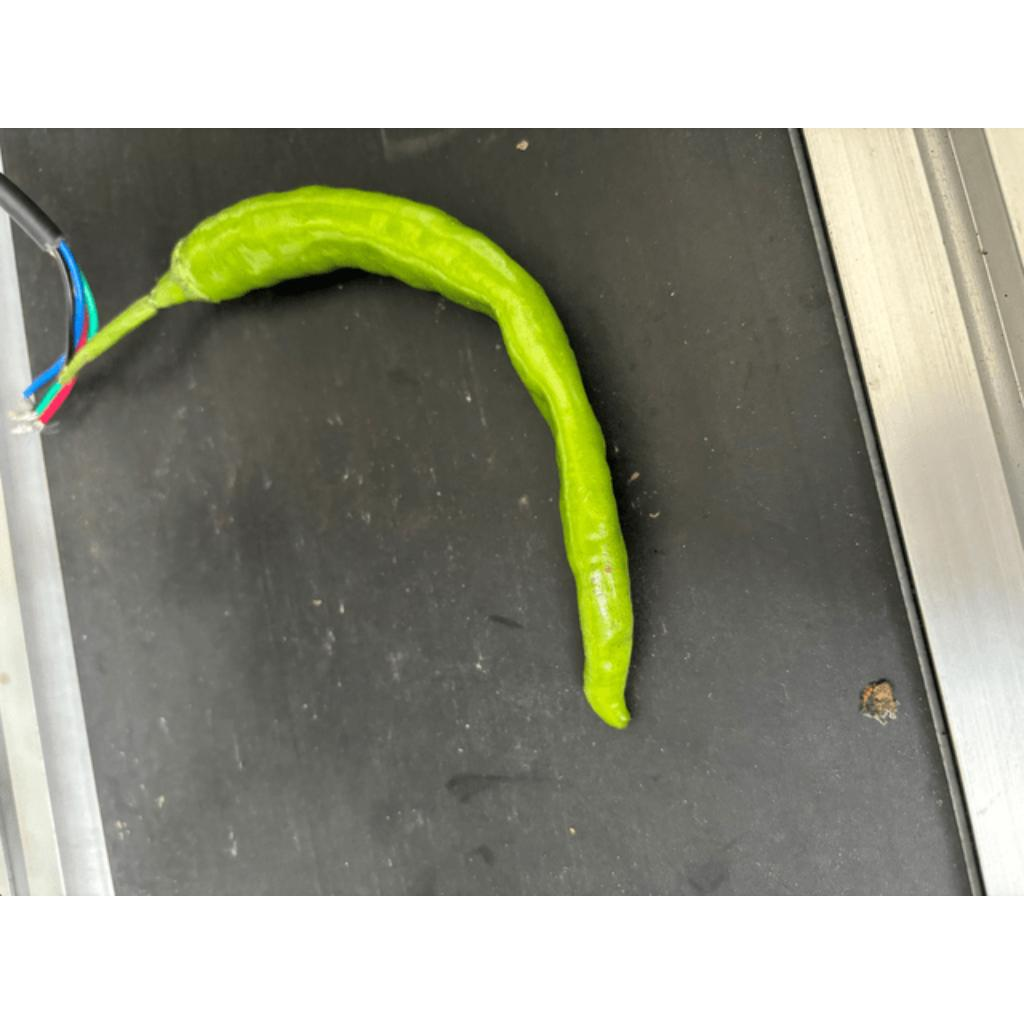chili: (164, 183, 635, 738)
